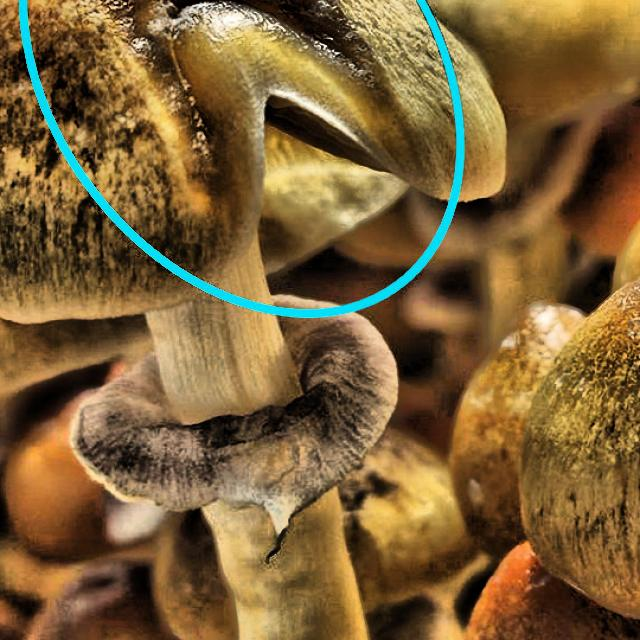Affected: (49, 0, 452, 337)
